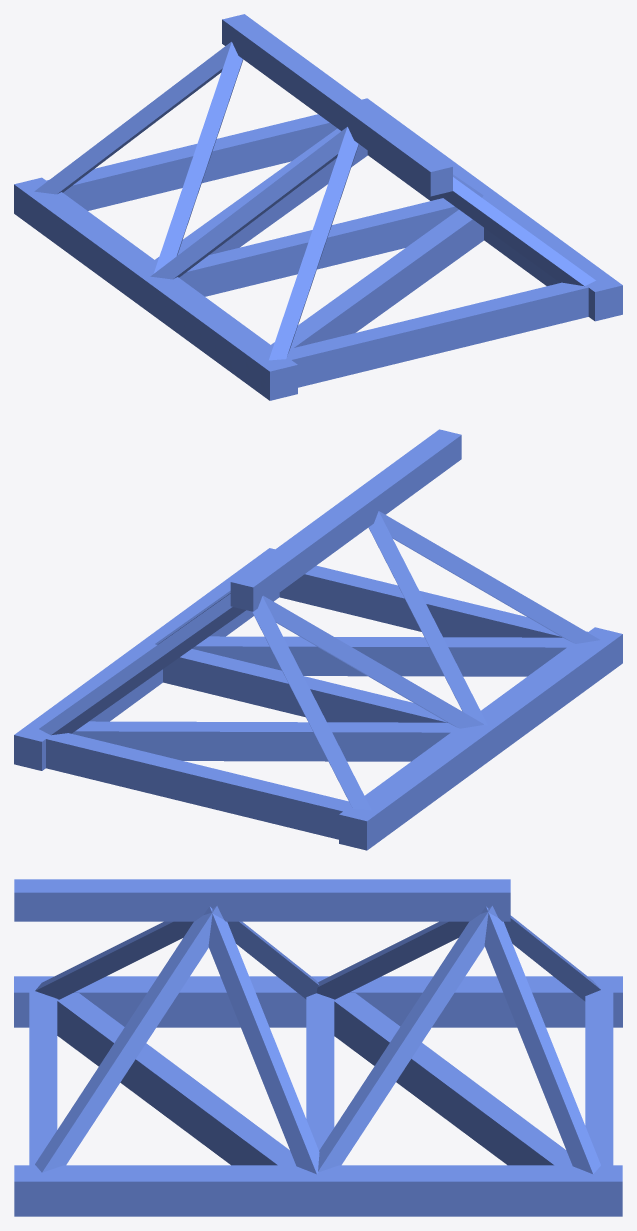
File: flatArmForearmEnd.glb
3 renders of one model, top to bottom at view 1: azimuth 30°, elevation 25°; view 2: azimuth 150°, elevation 25°; view 3: azimuth 270°, elevation 25°, orthographic. The views are drawn at different scales.
Visible parts, largest first — view 1: forearmEnd; view 2: forearmEnd; view 3: forearmEnd.
Boxes of the visible parts, bbox=[...] form: forearmEnd: bbox=[14, 14, 622, 400]; forearmEnd: bbox=[14, 429, 622, 850]; forearmEnd: bbox=[14, 879, 622, 1216].
Size of the model in its own units: 63.05 by 32.36 by 79.1.
